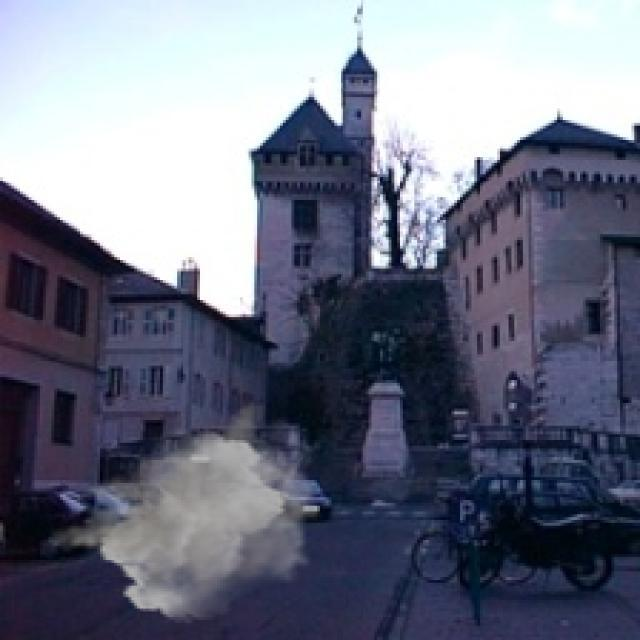Smoke: (46, 400, 323, 623)
